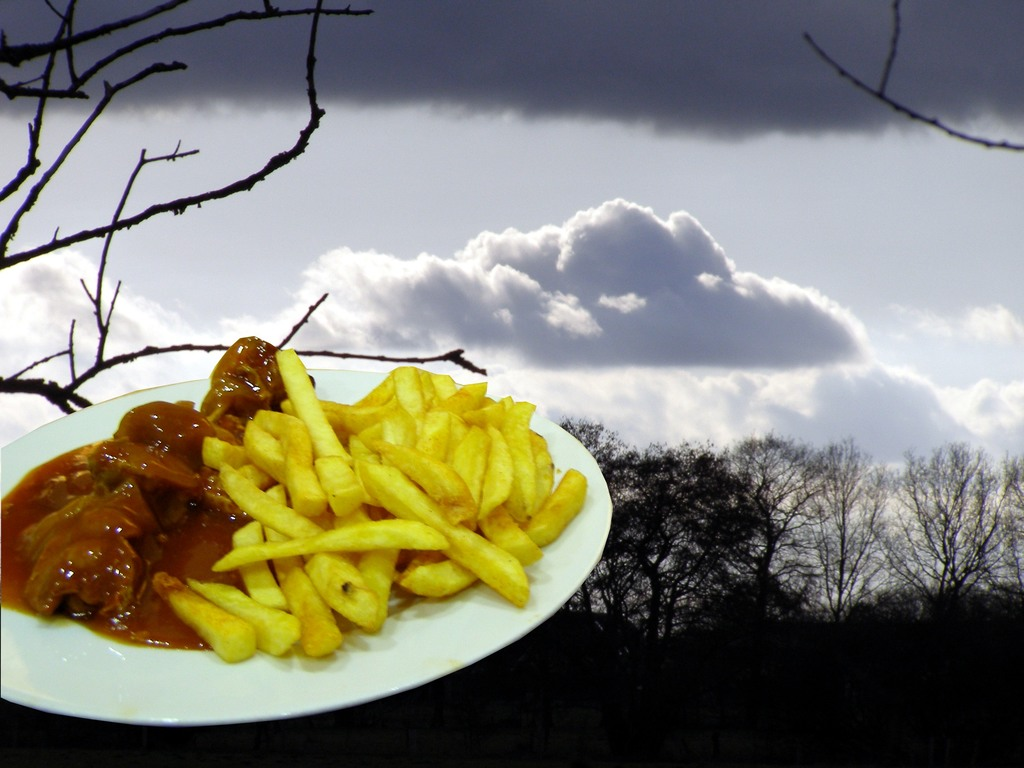French fries: (146, 330, 584, 666)
